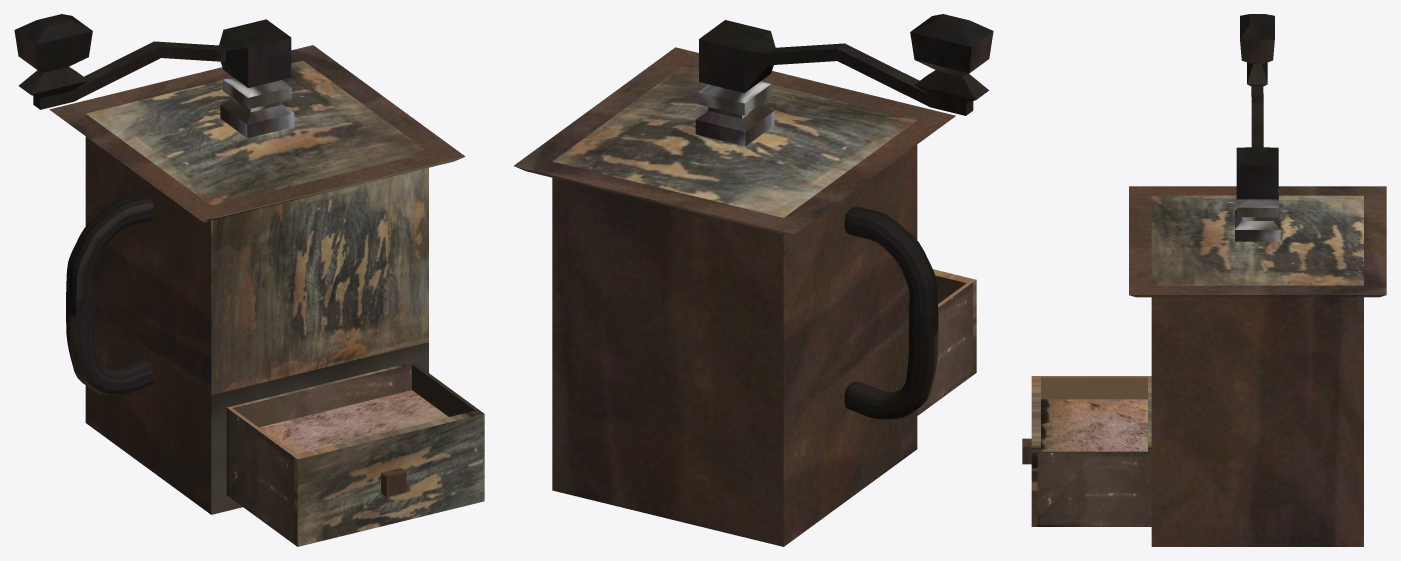
Rendered from CoffeeGrinder.fbx.
3 renders of one model, left to right at view 1: azimuth 30°, elevation 25°; view 2: azimuth 150°, elevation 25°; view 3: azimuth 270°, elevation 25°, orthographic. The views are drawn at different scales.
Parts seen in each view (by area): view 1: Cube; view 2: Cube; view 3: Cube.
Part boxes in pixels (<box>): Cube: <box>14,14,484,546</box>; Cube: <box>514,14,993,546</box>; Cube: <box>1022,14,1386,546</box>.
Size of the model in its own units: 3.35 by 3.43 by 4.14.
Materials: 1 (1 with a texture image).
